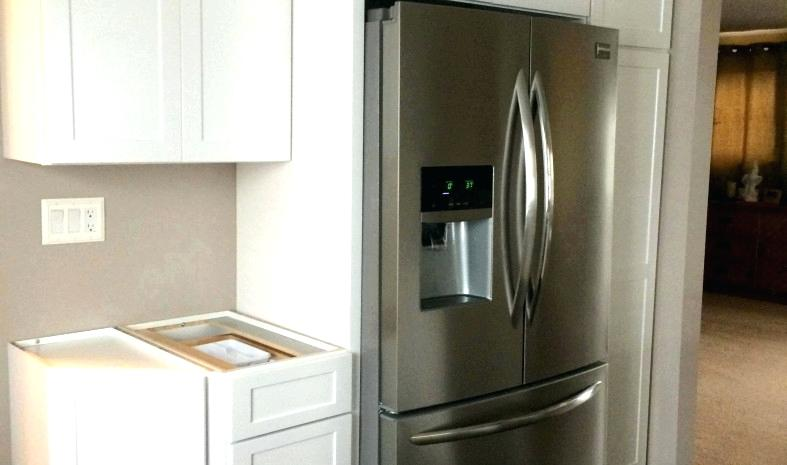cabinet door: (67, 6, 180, 156), (180, 19, 293, 154), (216, 372, 358, 421), (234, 418, 354, 465)
handle: (533, 82, 569, 315), (505, 83, 542, 308), (424, 403, 596, 444)
refrigerator door: (405, 16, 523, 386), (527, 25, 612, 371), (421, 388, 610, 465)
